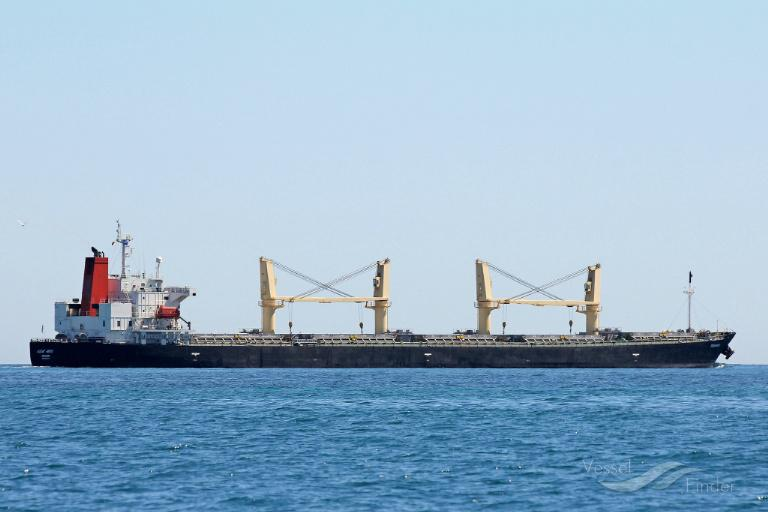OCR: (32, 345, 58, 363)
